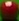brown: (0, 0, 19, 21)
